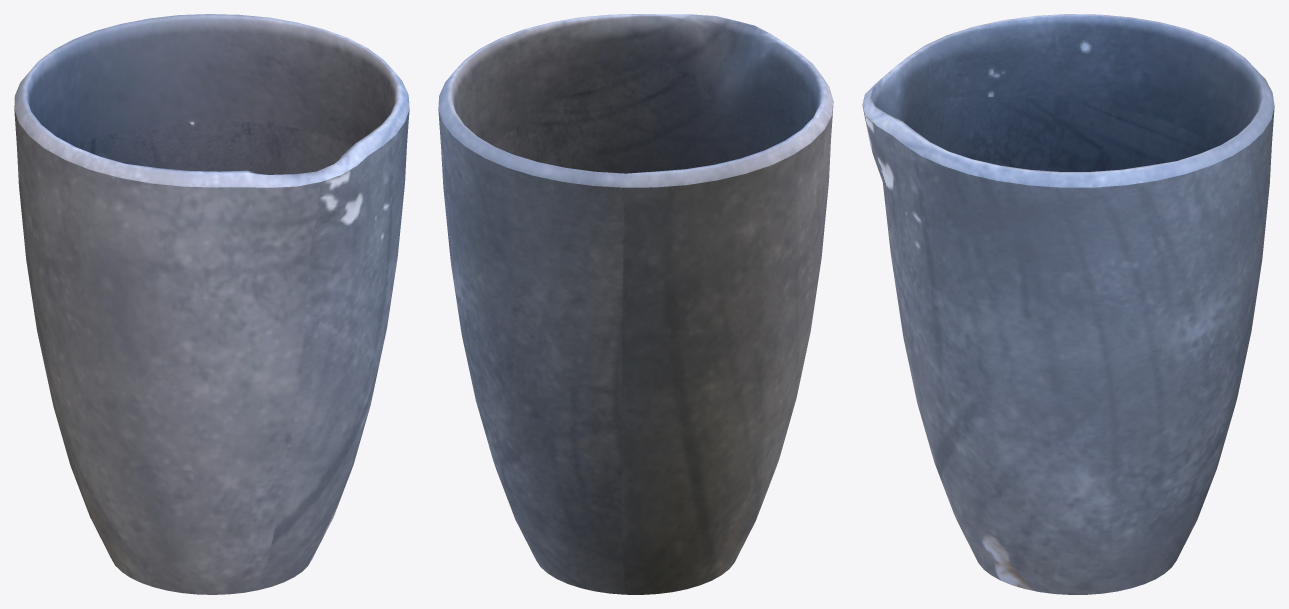
File: crucible.glb
3 views of the same model, side by side, from view 1: azimuth 30°, elevation 25°; view 2: azimuth 150°, elevation 25°; view 3: azimuth 270°, elevation 25° (orthographic).
Visible parts, largest first — view 1: crucible; view 2: crucible; view 3: crucible.
Boxes of the visible parts, x1,y1,x2,y2 form: crucible: [14, 14, 409, 594]; crucible: [438, 14, 833, 594]; crucible: [862, 14, 1274, 594].
Bounding box in the file's own units: 0.0337 × 0.0431 × 0.0352.
1 material, 1 textured.
